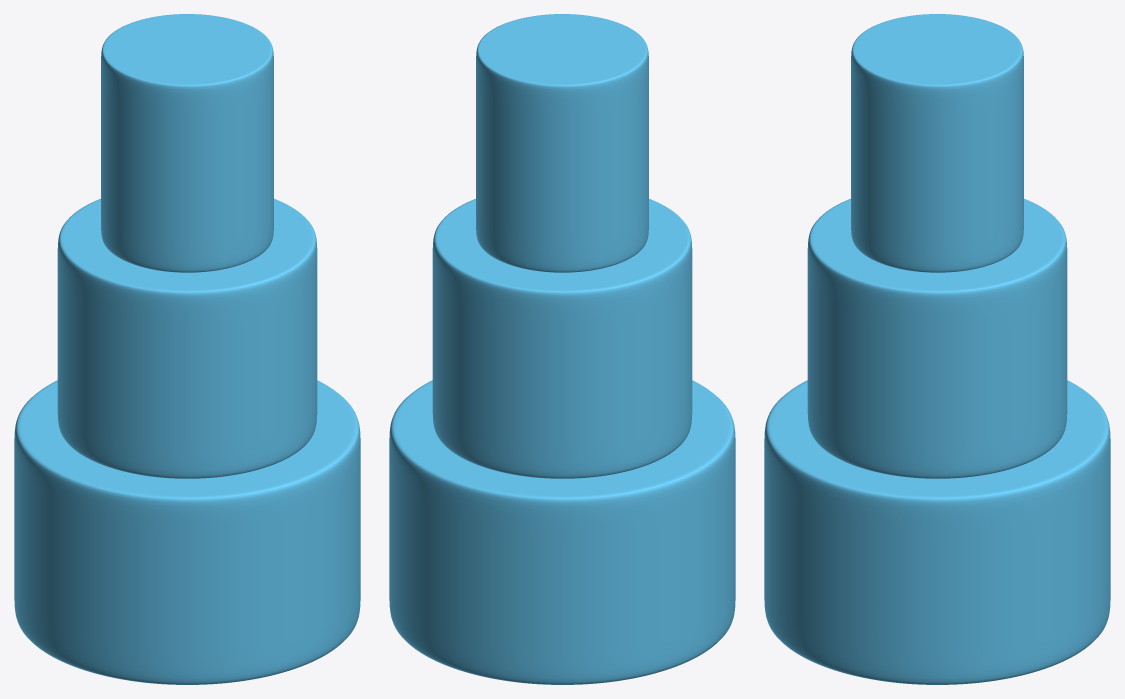
File: Cake_Layer_3_LightBlue.glb
3 views of the same model, side by side, from view 1: azimuth 30°, elevation 25°; view 2: azimuth 150°, elevation 25°; view 3: azimuth 270°, elevation 25° (orthographic).
Visible parts, largest first — view 1: Circle.001, Circle.002, Circle.003; view 2: Circle.001, Circle.002, Circle.003; view 3: Circle.001, Circle.002, Circle.003.
Part boxes in pixels (<box>): Circle.001: <box>14,380,360,684</box>; Circle.002: <box>57,199,317,478</box>; Circle.003: <box>101,14,273,272</box>; Circle.001: <box>389,380,735,684</box>; Circle.002: <box>432,199,692,478</box>; Circle.003: <box>476,14,648,272</box>; Circle.001: <box>764,380,1110,684</box>; Circle.002: <box>807,199,1067,478</box>; Circle.003: <box>851,14,1023,272</box>.
Bounding box in the file's own units: 0.2 × 0.36 × 0.2.
